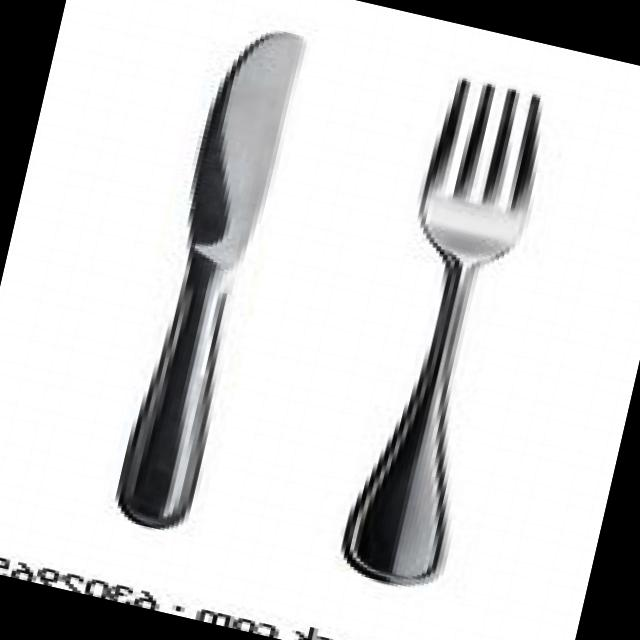fork: (330, 73, 560, 597)
